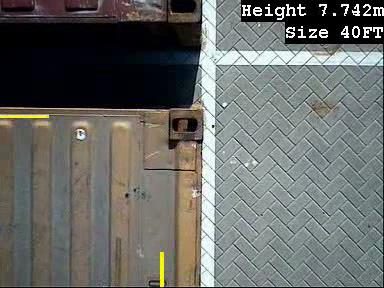groundmarker_2: (203, 37, 246, 98)
